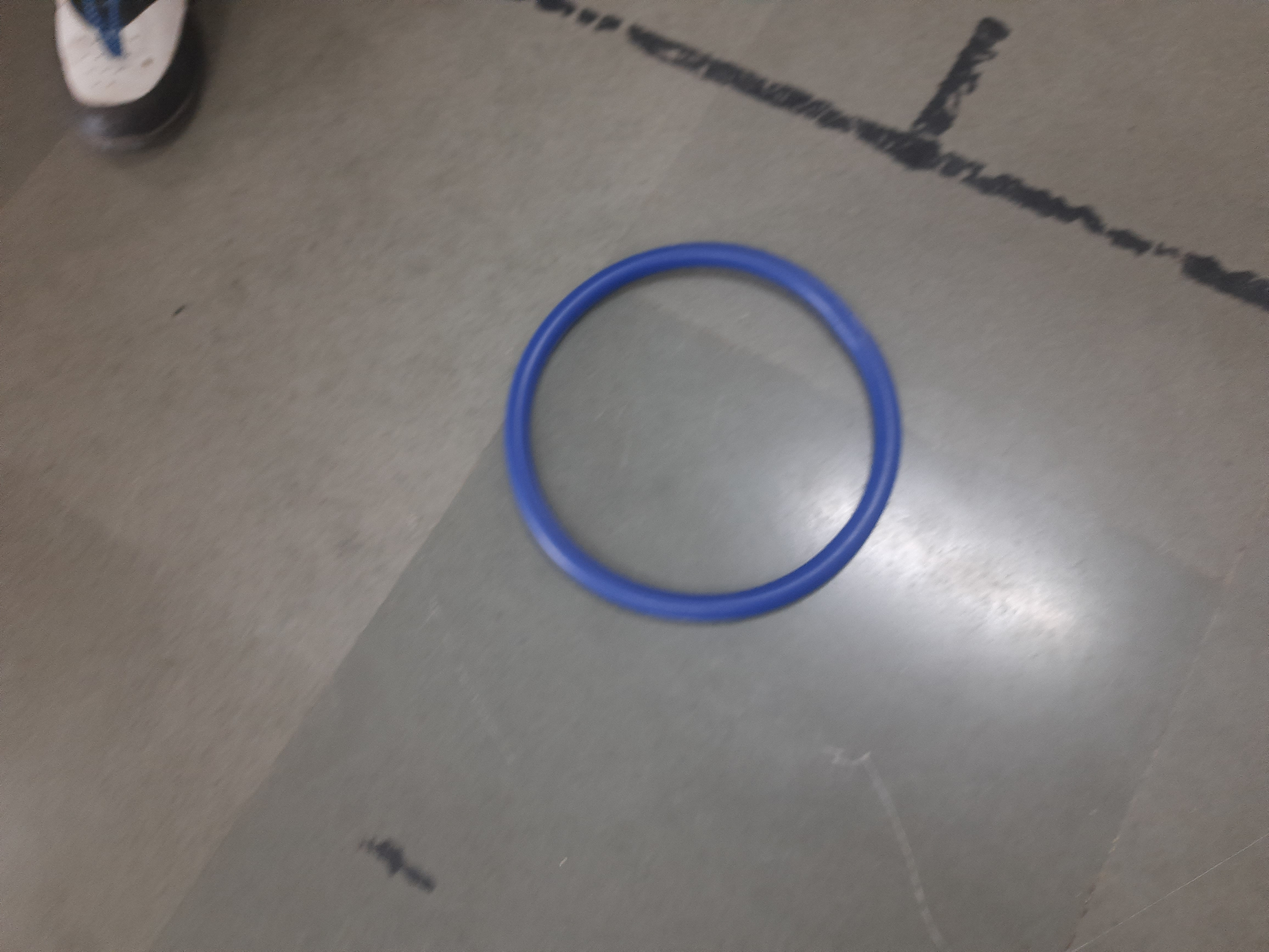Blue ring: (507, 244, 901, 614)
